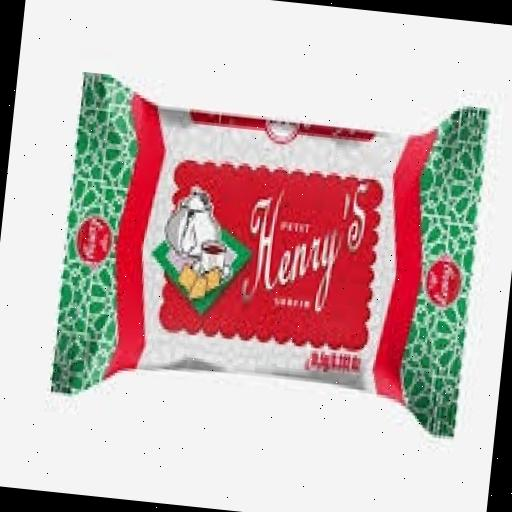golden: (18, 12, 512, 483)
